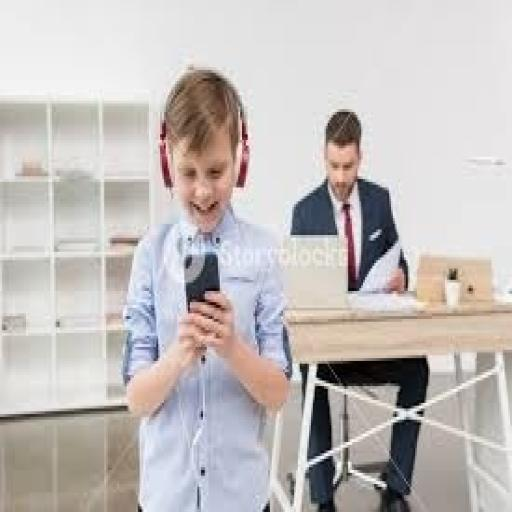listening_to_music: (119, 64, 294, 510)
